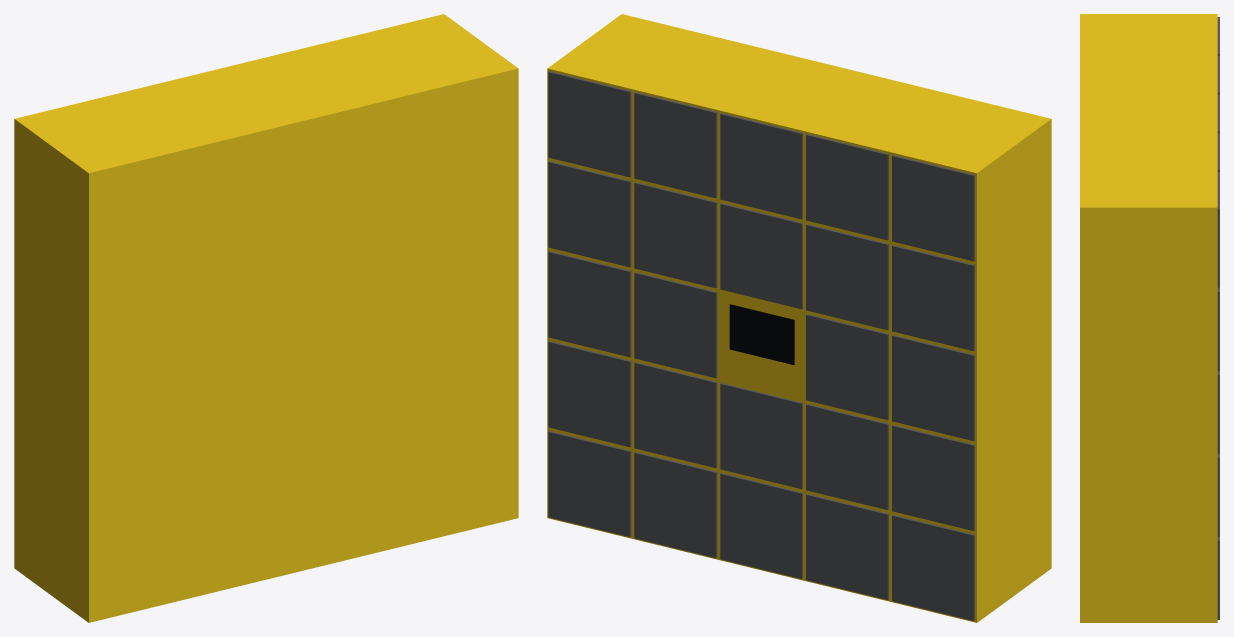
File: retail.shop.parcel_locker.glb
The picture shows the model from 3 angles, left to right: view 1: azimuth 30°, elevation 25°; view 2: azimuth 150°, elevation 25°; view 3: azimuth 270°, elevation 25°; orthographic projection. The views are drawn at different scales.
Parts seen in each view (by area): view 1: main__plastic_yellow; view 2: main__plastic_grey, main__plastic_yellow, main__screen; view 3: main__plastic_yellow, main__plastic_grey.
Part boxes in pixels (left/top/right/bottom): main__plastic_yellow: left=14, top=14, right=518, bottom=622; main__plastic_grey: left=548, top=71, right=974, bottom=620; main__plastic_yellow: left=547, top=14, right=1051, bottom=622; main__screen: left=729, top=304, right=794, bottom=364; main__plastic_yellow: left=1080, top=14, right=1217, bottom=622; main__plastic_grey: left=1217, top=17, right=1219, bottom=619.
Bounding box in the file's own units: 2 × 2 × 0.61.
